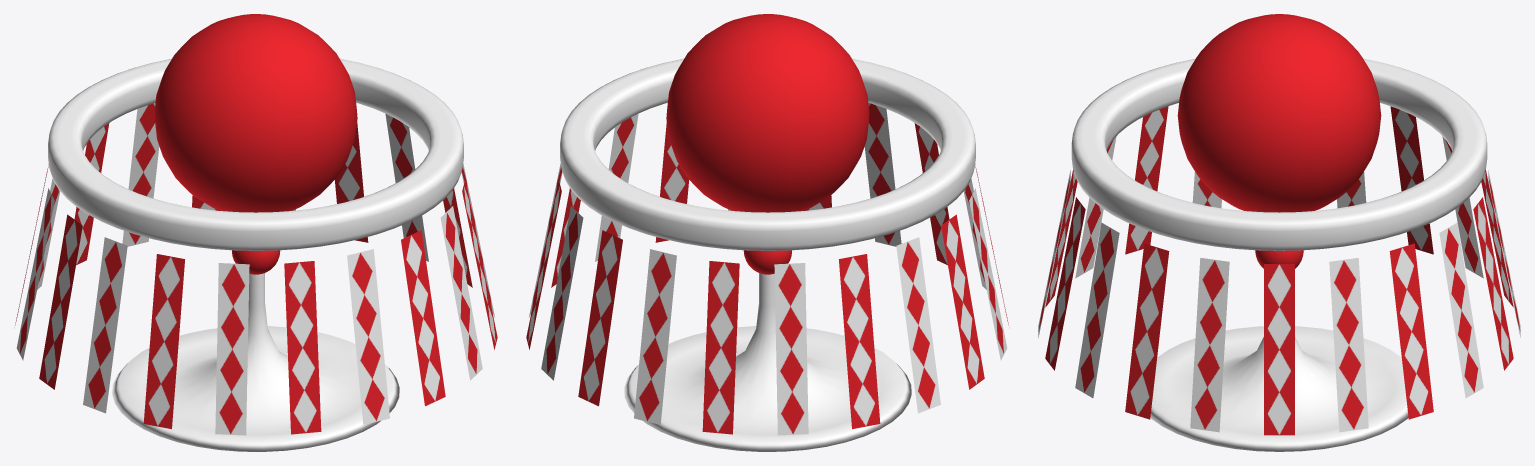
File: teraforming_building_fire.FBX
The picture shows the model from 3 angles, left to right: view 1: azimuth 30°, elevation 25°; view 2: azimuth 150°, elevation 25°; view 3: azimuth 270°, elevation 25°; orthographic projection.
Parts seen in each view (by area): view 1: Plane003, Sphere002, Tube001, Cylinder001, Sphere001; view 2: Plane003, Sphere002, Tube001, Cylinder001, Sphere001; view 3: Plane003, Sphere002, Tube001, Cylinder001, Sphere001.
Boxes of the visible parts, x1,y1,x2,y2 form: Plane003: (15,103,497,435); Sphere002: (154,14,357,212); Tube001: (48,58,463,250); Cylinder001: (112,273,399,451); Sphere001: (232,250,280,274); Plane003: (526,103,1008,435); Sphere002: (666,14,869,212); Tube001: (560,58,975,250); Cylinder001: (624,273,911,451); Sphere001: (743,250,791,274); Plane003: (1038,106,1520,435); Sphere002: (1177,14,1381,212); Tube001: (1071,58,1487,250); Cylinder001: (1150,326,1408,451); Sphere001: (1255,250,1303,268).
Bounding box in the file's own units: 109 × 94.98 × 109.
4 materials, 4 textured.
